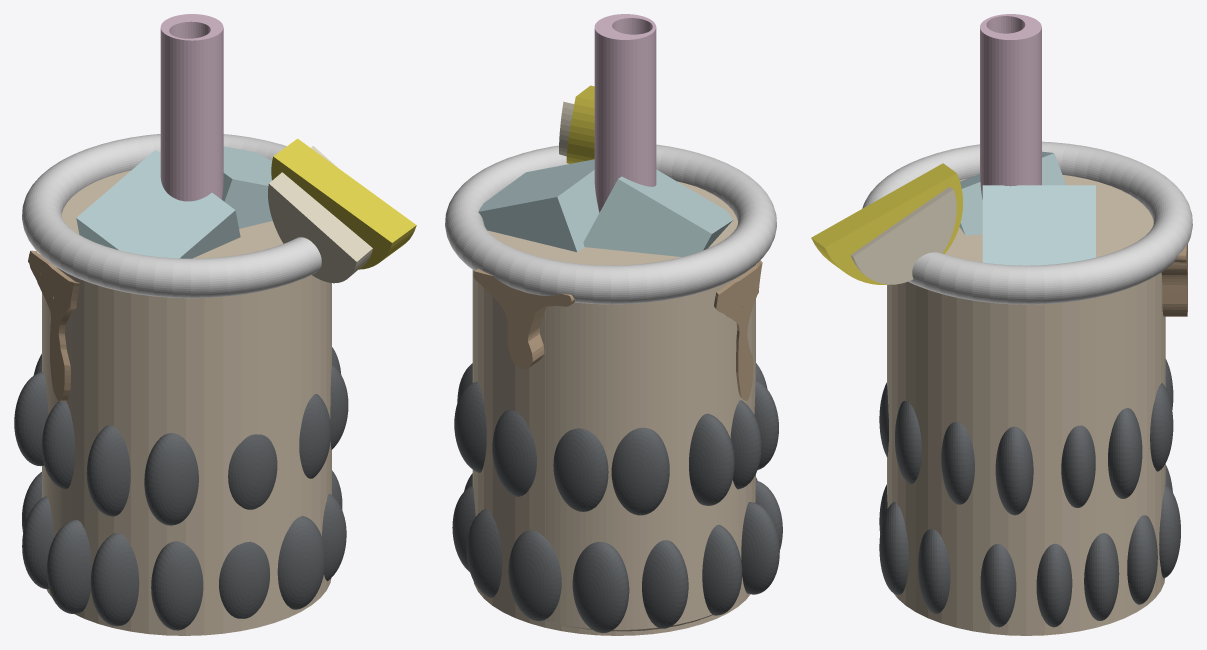
File: Alexis C - Boba.glb
3 views of the same model, side by side, from view 1: azimuth 30°, elevation 25°; view 2: azimuth 150°, elevation 25°; view 3: azimuth 270°, elevation 25° (orthographic).
Visible parts, largest first — view 1: Mesh_Mesh_head_geo.001_lambert2SG.001; view 2: Mesh_Mesh_head_geo.001_lambert2SG.001; view 3: Mesh_Mesh_head_geo.001_lambert2SG.001.
Boxes of the visible parts, x1=… form: Mesh_Mesh_head_geo.001_lambert2SG.001: x1=14, y1=14, x2=416, y2=635; Mesh_Mesh_head_geo.001_lambert2SG.001: x1=445, y1=14, x2=782, y2=635; Mesh_Mesh_head_geo.001_lambert2SG.001: x1=811, y1=14, x2=1192, y2=635.
Size of the model in its own units: 0.0445 by 0.078 by 0.0494.
